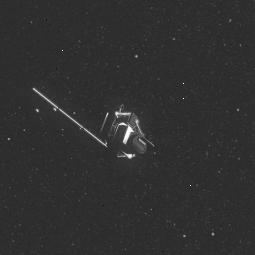earth_observation_sat_1: (86, 97, 160, 164)
